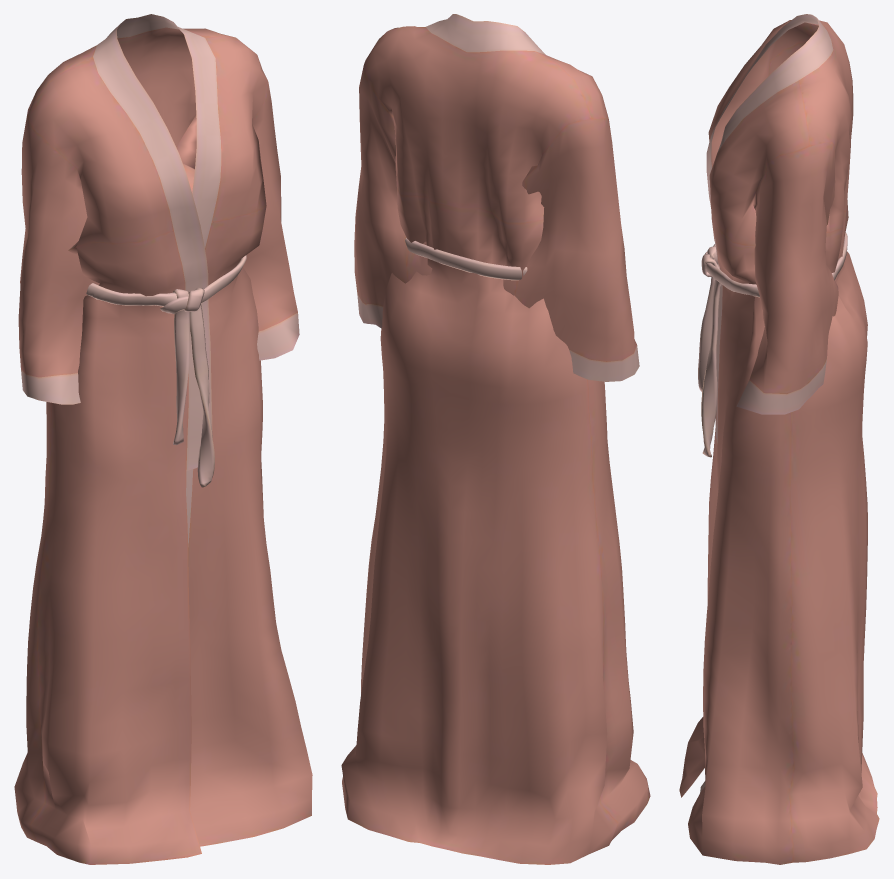
Rendered from mindfront-kimono.glb.
3 views of the same model, side by side, from view 1: azimuth 30°, elevation 25°; view 2: azimuth 150°, elevation 25°; view 3: azimuth 270°, elevation 25° (orthographic). The views are drawn at different scales.
Visible parts, largest first — view 1: Human.mindfront_kimono; view 2: Human.mindfront_kimono; view 3: Human.mindfront_kimono.
Boxes of the visible parts, left/top/right/bottom form: Human.mindfront_kimono: left=14, top=14, right=312, bottom=864; Human.mindfront_kimono: left=341, top=14, right=650, bottom=864; Human.mindfront_kimono: left=679, top=14, right=879, bottom=864.
Bounding box in the file's own units: 0.5153 × 1.45 × 0.3362.
Materials: 1 (1 with a texture image).
